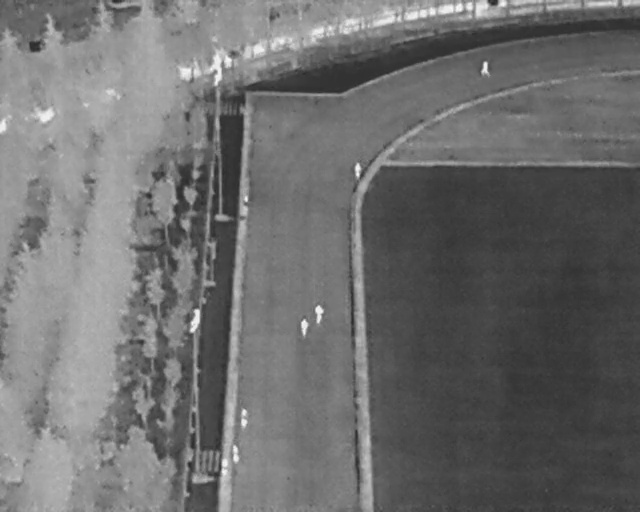Person: (299, 313, 310, 337), (313, 303, 324, 326), (238, 406, 248, 430), (231, 443, 240, 465), (480, 59, 490, 78), (353, 160, 362, 178), (220, 458, 228, 476), (242, 193, 249, 211)
